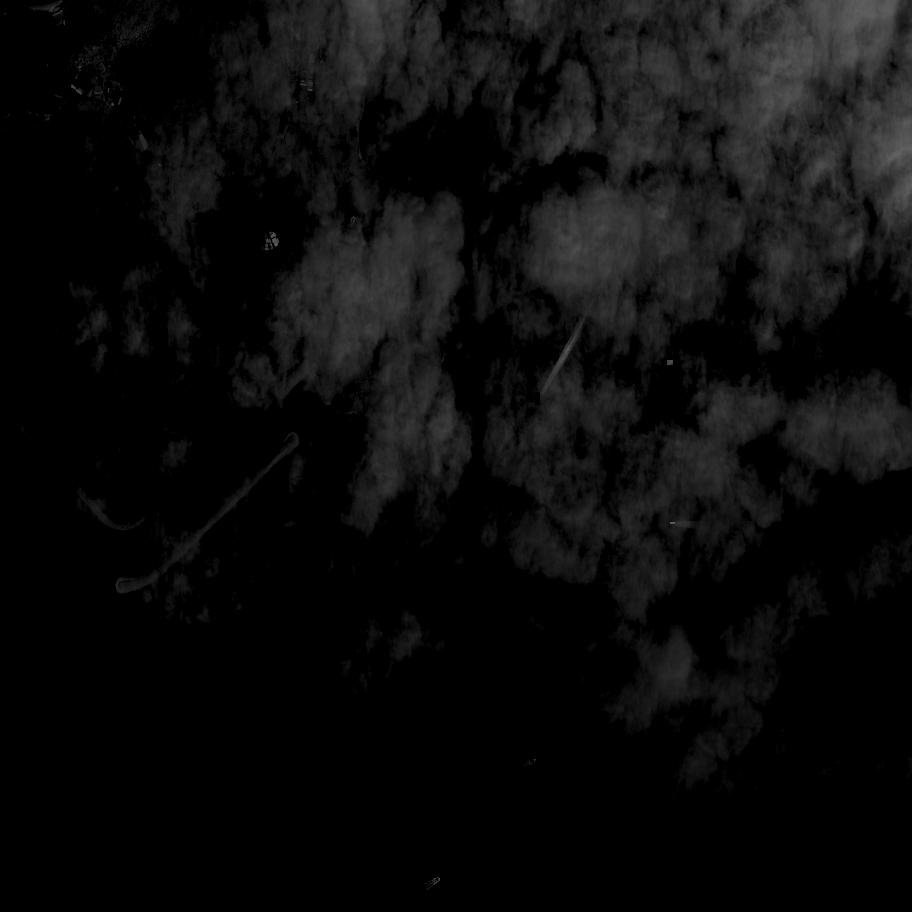ship: (42, 404, 53, 413), (535, 393, 541, 405), (42, 407, 48, 415), (130, 466, 138, 472), (667, 360, 674, 366), (670, 522, 675, 524), (531, 759, 533, 762), (436, 879, 438, 881)
